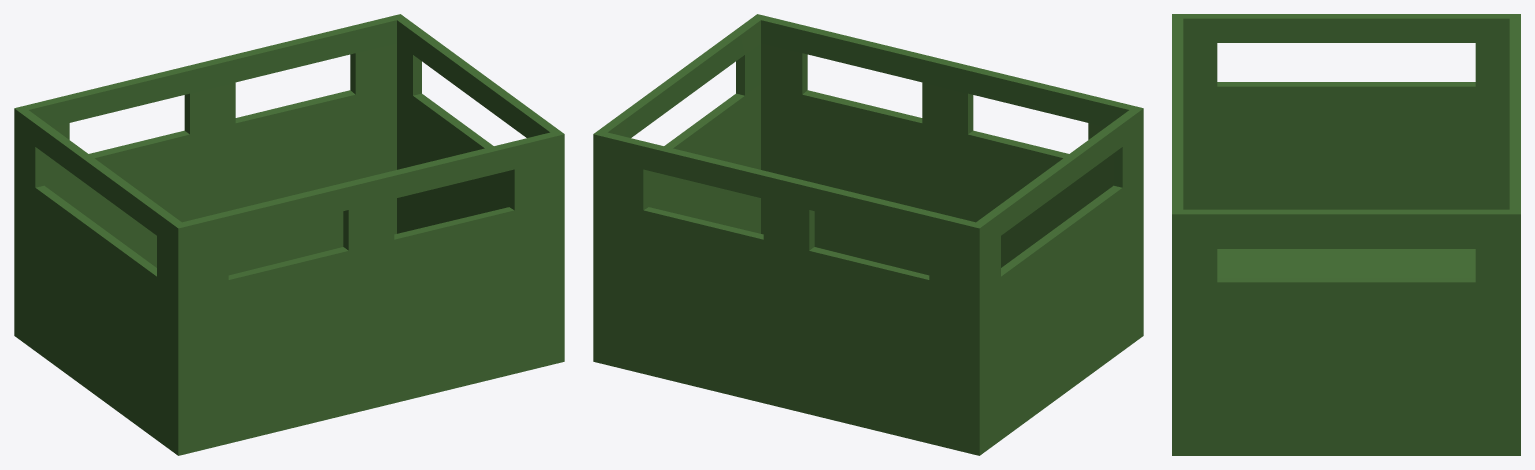
The model's file is Green crate.fbx.
3 renders of one model, left to right at view 1: azimuth 30°, elevation 25°; view 2: azimuth 150°, elevation 25°; view 3: azimuth 270°, elevation 25°, orthographic. The views are drawn at different scales.
Parts seen in each view (by area): view 1: Cube.002; view 2: Cube.002; view 3: Cube.002.
Boxes of the visible parts, left/top/right/bottom form: Cube.002: left=14, top=14, right=564, bottom=455; Cube.002: left=593, top=14, right=1143, bottom=455; Cube.002: left=1172, top=14, right=1520, bottom=455.
Bounding box in the file's own units: 356 × 262 × 200.
